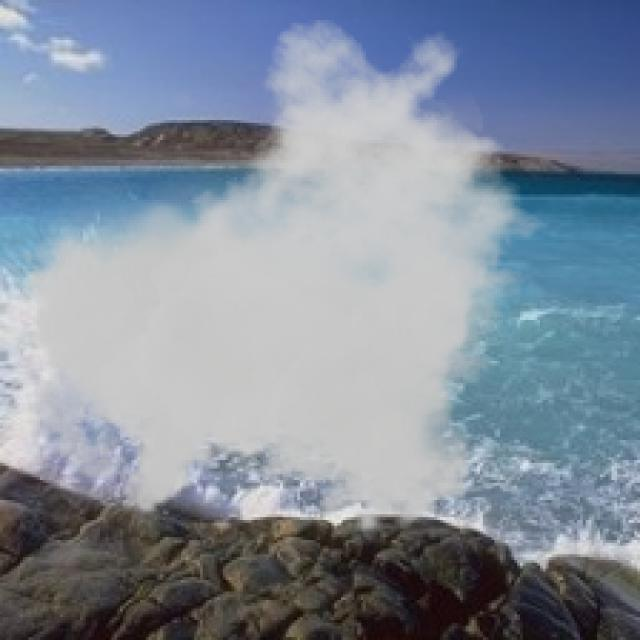Smoke: (20, 17, 566, 537)
